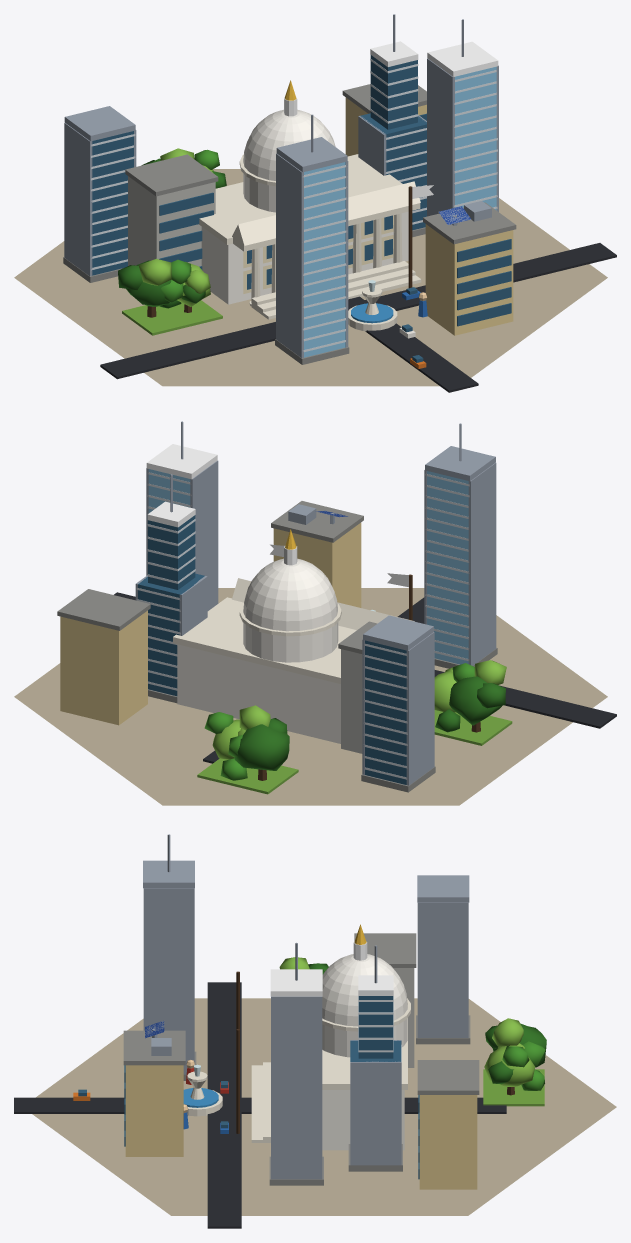
File: capital_3_4.fbx
The picture shows the model from 3 angles, top to bottom: view 1: azimuth 30°, elevation 25°; view 2: azimuth 150°, elevation 25°; view 3: azimuth 270°, elevation 25°; orthographic projection.
Parts seen in each view (by area): view 1: capital_3_4; view 2: capital_3_4; view 3: capital_3_4.
Part boxes in pixels (left/top/right/bottom): capital_3_4: left=14, top=14, right=616, bottom=392; capital_3_4: left=14, top=421, right=616, bottom=805; capital_3_4: left=14, top=834, right=616, bottom=1228.
Bounding box in the file's own units: 204 × 92 × 213.
